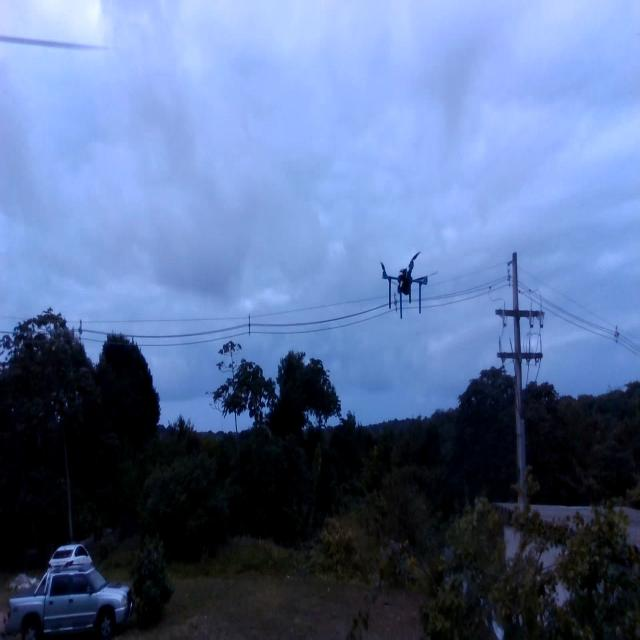-uav-: (379, 240, 437, 320)
